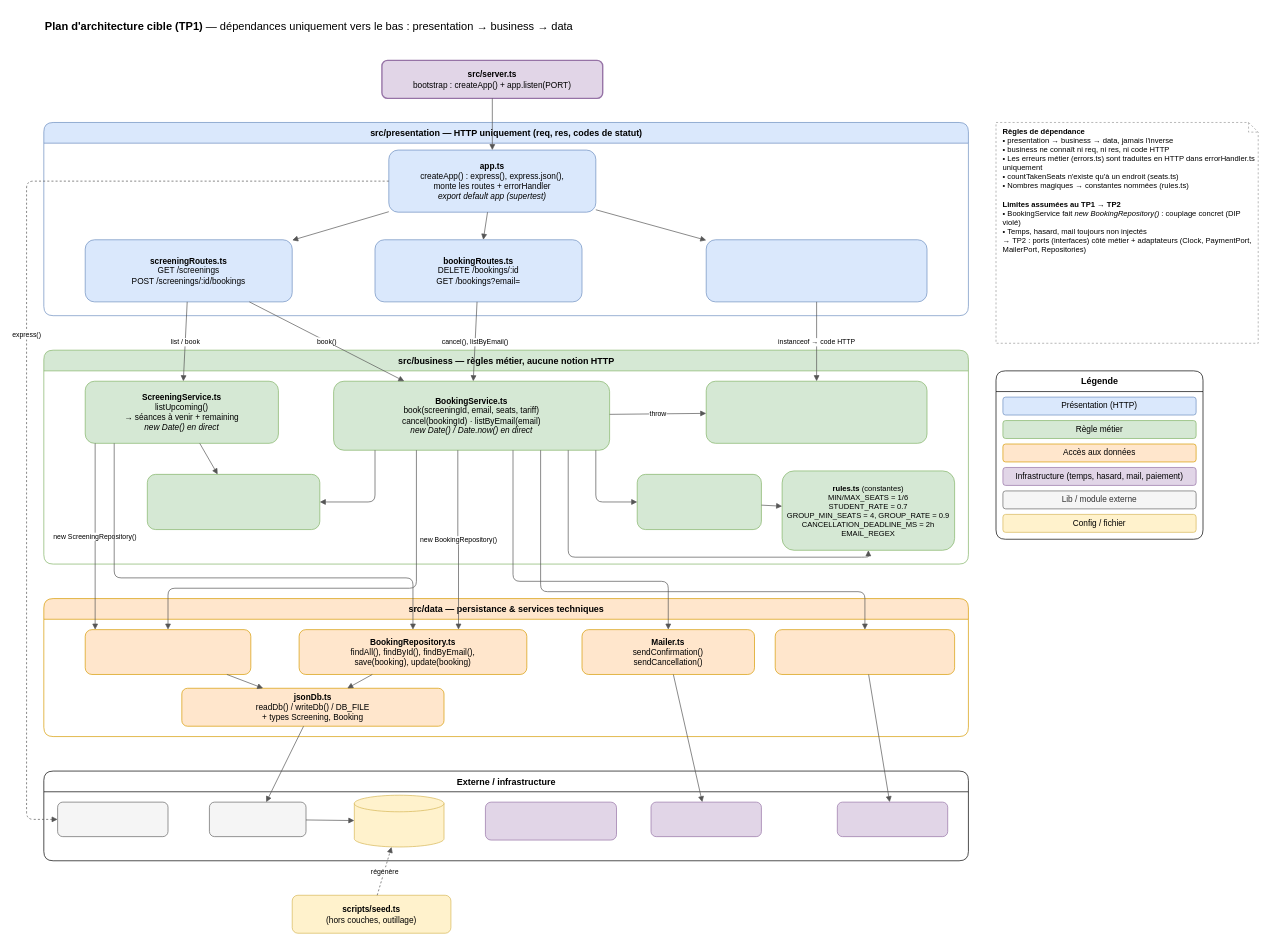
The diagram is 1270 pixels wide and 945 high, and some of its shapes have lost their labels. Each missing label, with the centre of its shape:
"console.log" belongs at [705,819].
"data/db.json" belongs at [399,821].
"errorHandler.ts SEUL endroit qui traduit erreur métier → 400 / 402 / 404 / 409" belongs at [816,270].
"errors.ts NotFoundError, ValidationError, ConflictError, PaymentRefusedError" belongs at [816,412].
"express" belongs at [112,819].
"fs / path" belongs at [257,819].
"Math.random()" belongs at [892,819].
"new Date() / Date.now() appelés par les services" belongs at [551,820].
"PaymentGateway.ts pay(amount): boolean (refus 1/20)" belongs at [865,651].
"pricing.ts (pure) computeTotal(unit, seats, tariff) testée par Vitest" belongs at [699,502].
"ScreeningRepository.ts findAll(), findById(id)" belongs at [168,651].
"seats.ts countTakenSeats(bookings, id) unique (supprime la duplication)" belongs at [233,502].
